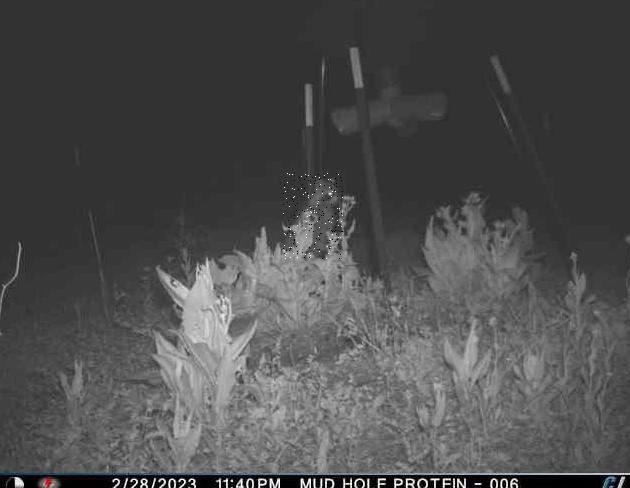Raccoon: (283, 173, 343, 259)
